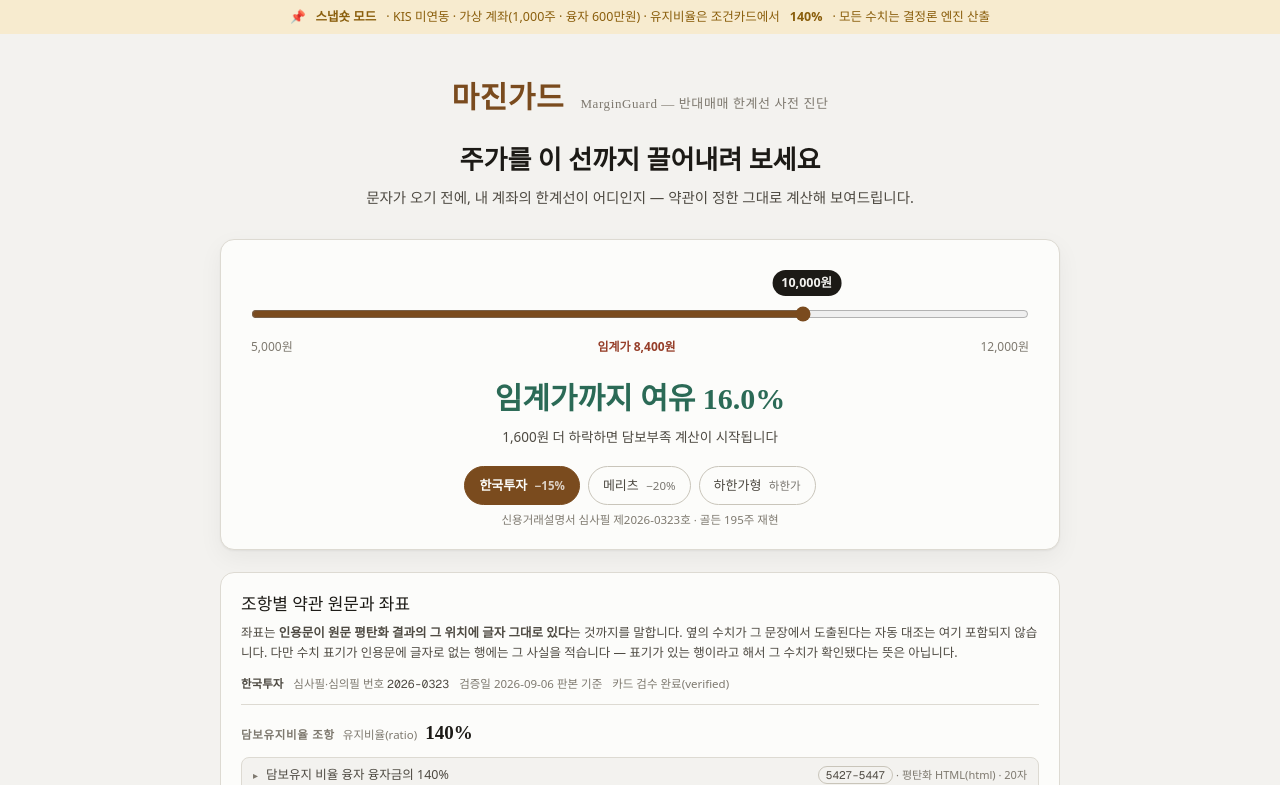
Test: 전제 — 이 검사가 볼 대상이 실제로 있다 › 임계가 아래로 내리면 처분 수량 섹션이 렌더된다
This screenshot has width=1280, height=785.
Click the button "하한가형 하한가" at x=757, y=486, box [699,466,816,505]
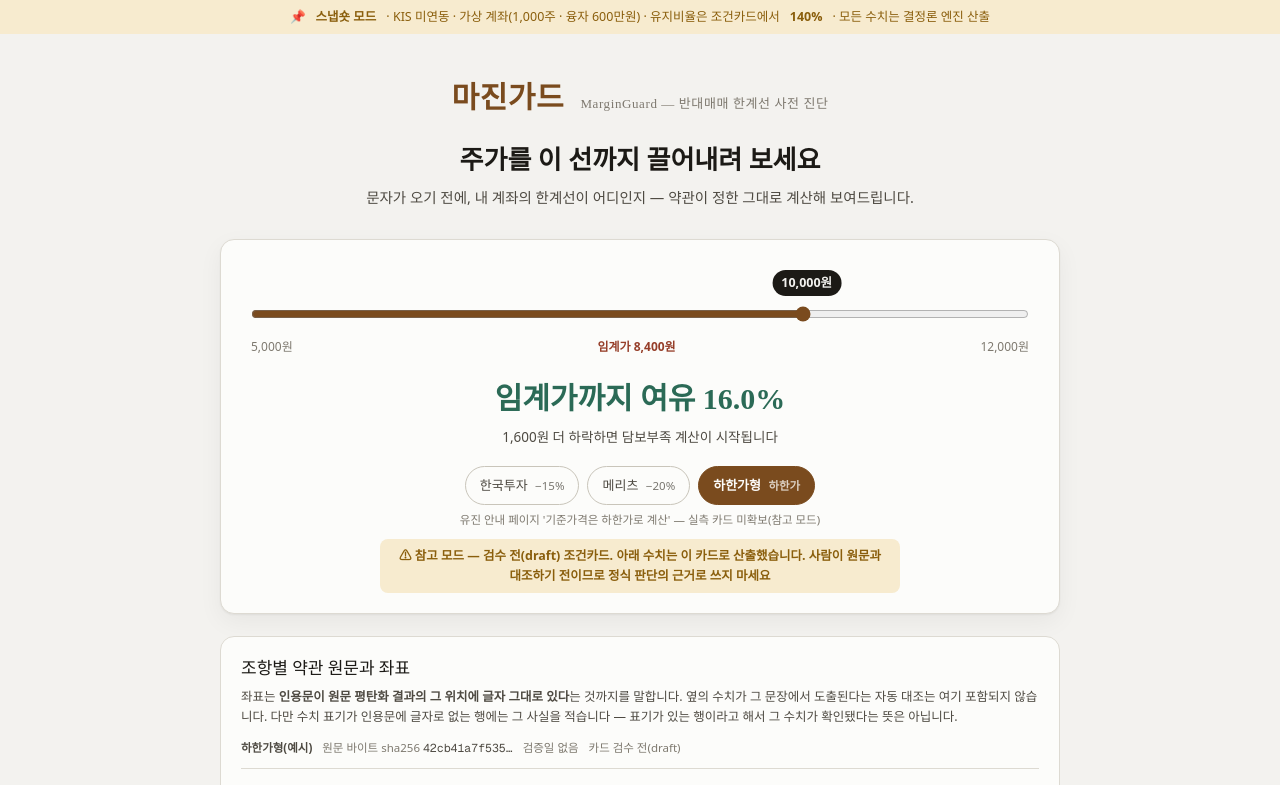
Set the slider named "가격 시나리오" to "6000" at x=368, y=314, box [251,300,1029,328]
(page scrolled)
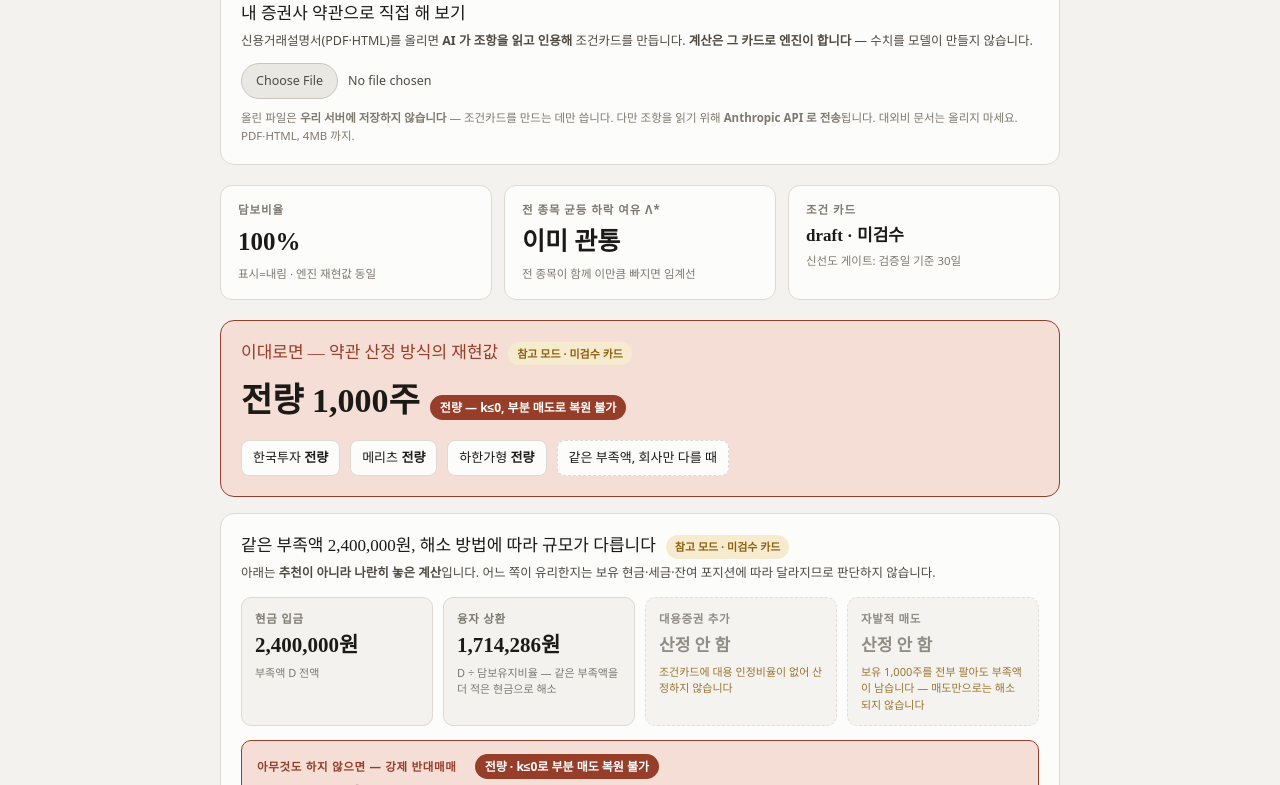
Now the element with id "liqBox" is shown, box [220,320,1060,497]
Now the text "전량 1,000주" is shown, box [241,382,420,419]
